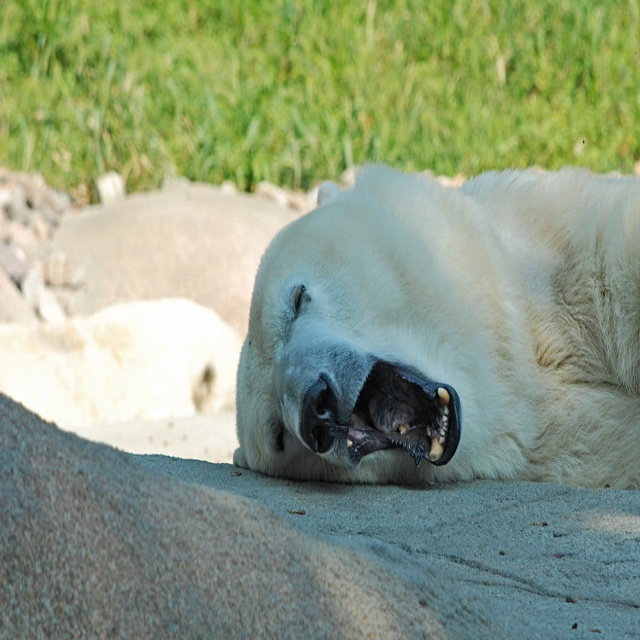Polar bear: (232, 155, 640, 491)
